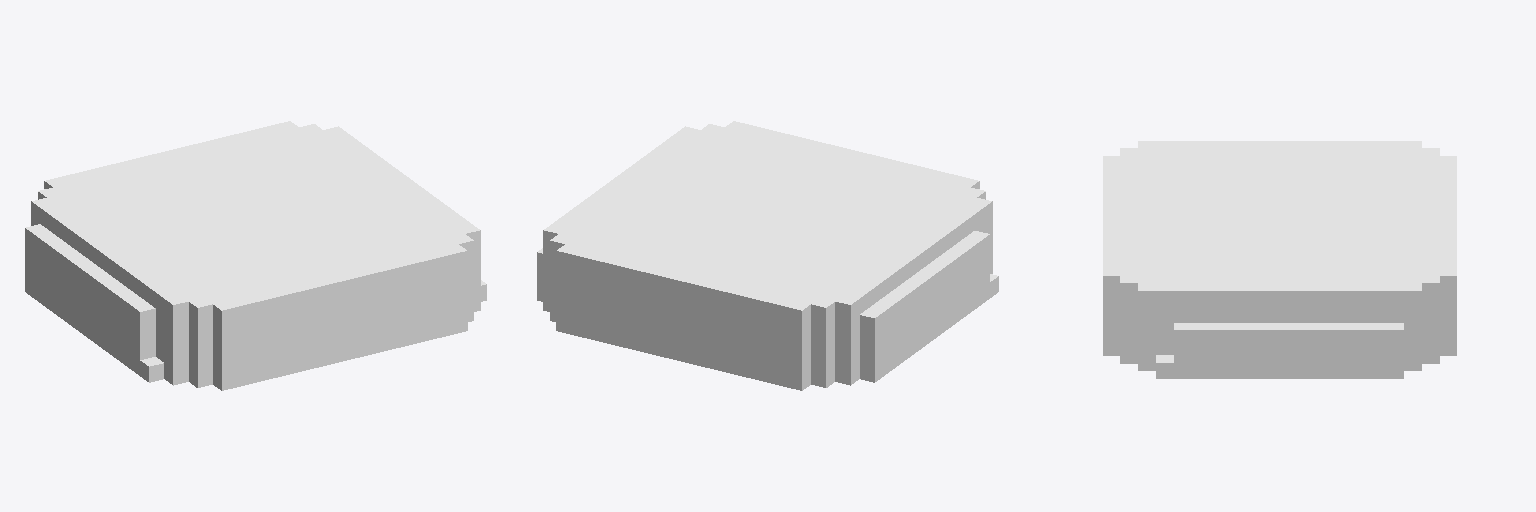
File: Character-14-Hip.obj
The picture shows the model from 3 angles: view 1: azimuth 30°, elevation 25°; view 2: azimuth 150°, elevation 25°; view 3: azimuth 270°, elevation 25°; orthographic projection.
Parts seen in each view (by area): view 1: Hip; view 2: Hip; view 3: Hip.
Part boxes in pixels (bbox=[...]): Hip: bbox=[25, 121, 486, 390]; Hip: bbox=[537, 121, 998, 390]; Hip: bbox=[1103, 141, 1456, 378].
Bounding box in the file's own units: 2.2 × 0.5 × 2.